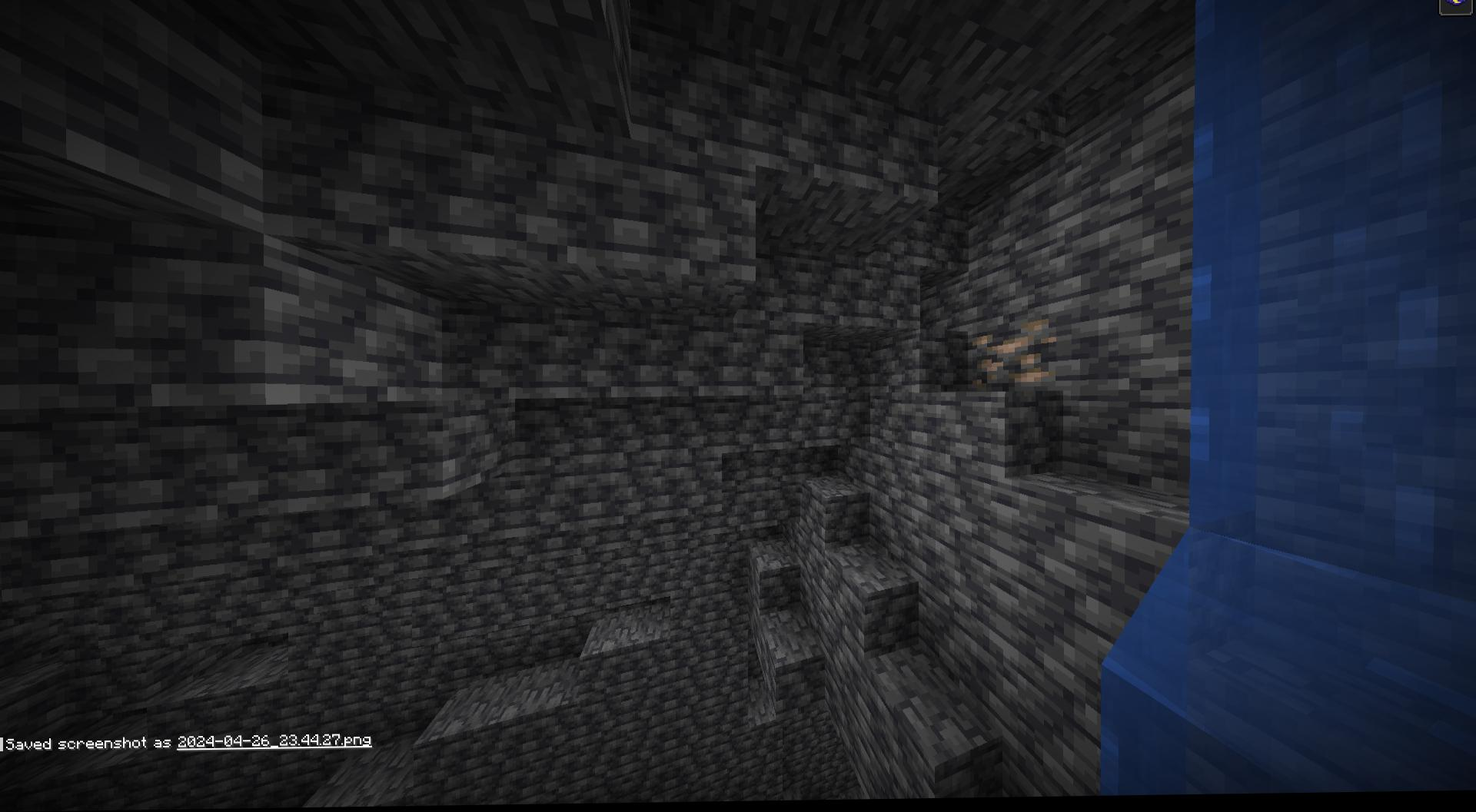iron ore: (968, 318, 1050, 386)
